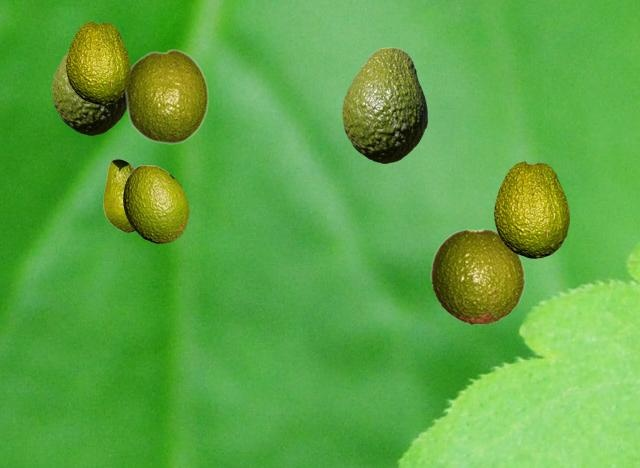avocado: (342, 47, 426, 162), (430, 228, 525, 324), (124, 48, 208, 144), (494, 161, 568, 257), (52, 51, 126, 134), (66, 21, 129, 103), (123, 165, 188, 242), (103, 159, 134, 231)
